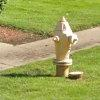a fire hydrant: (54, 16, 76, 76)
